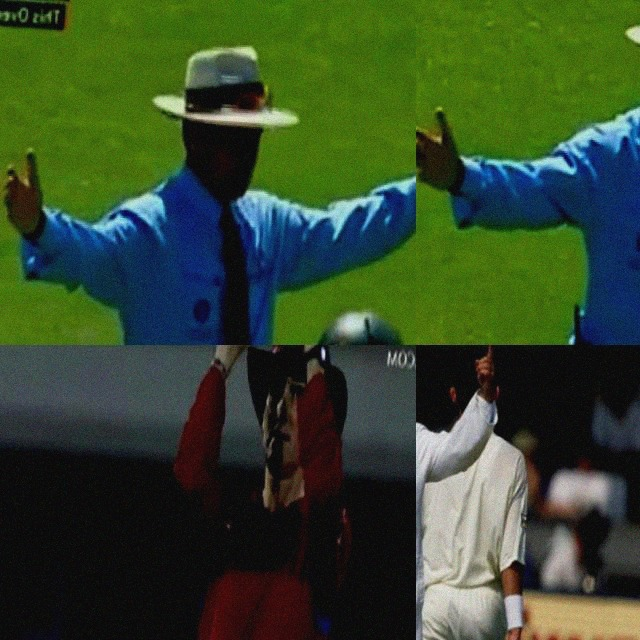No_Ball: (416, 0, 640, 345)
Out: (416, 345, 548, 640)
Six: (124, 345, 378, 640)
Wide: (0, 20, 416, 345)
